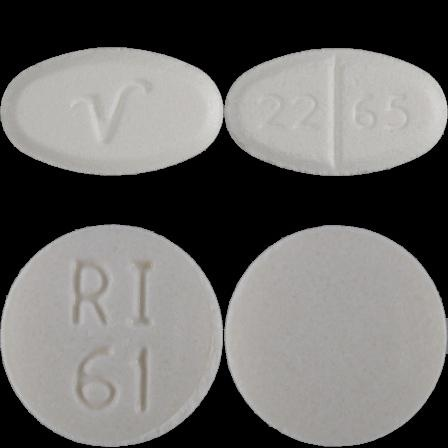68788-9796: (0, 0, 224, 224)
